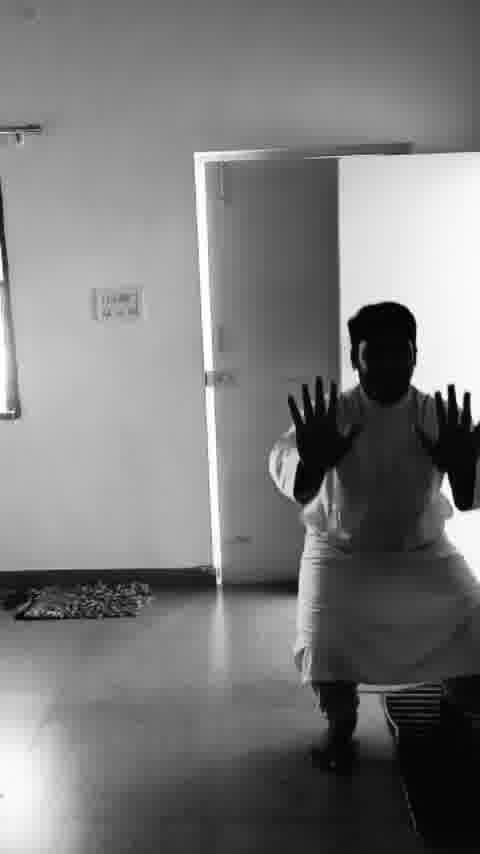duck: (261, 289, 480, 785)
